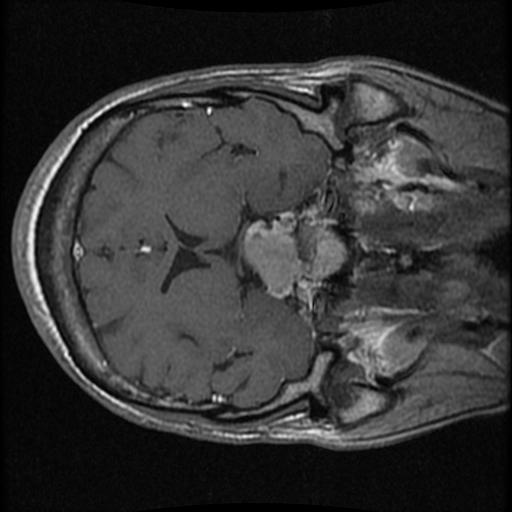pituitary tumour: (247, 226, 303, 296)
